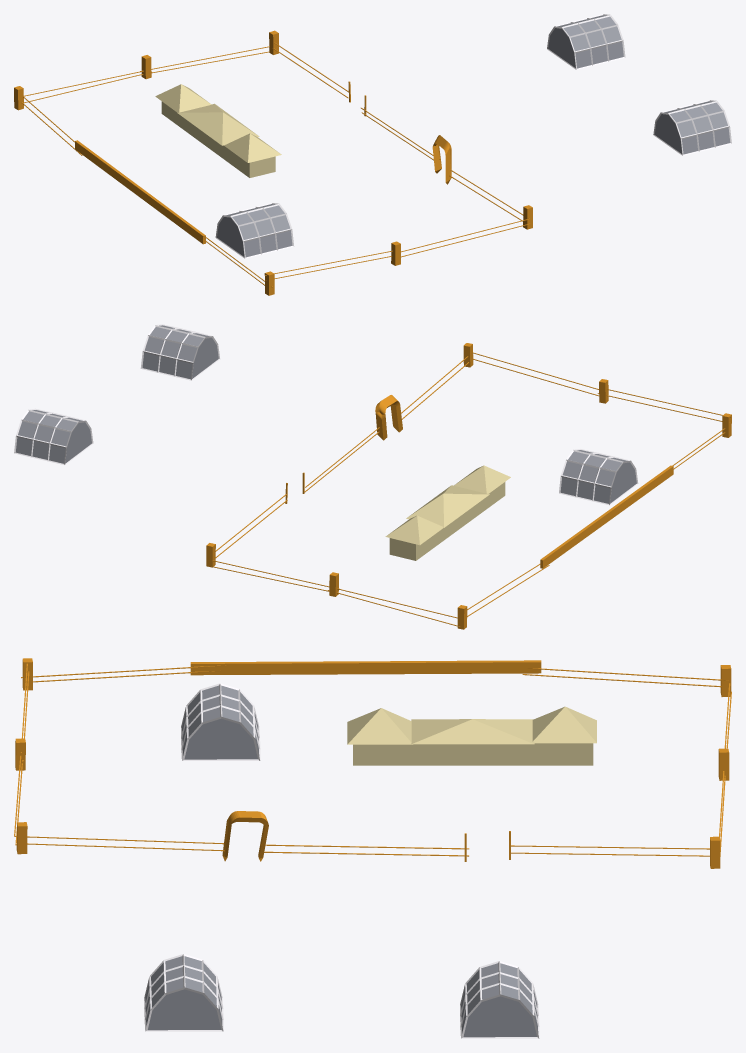
Rendered from Lahar_LTDA.glb.
3 views of the same model, one above another, from view 1: azimuth 30°, elevation 25°; view 2: azimuth 150°, elevation 25°; view 3: azimuth 270°, elevation 25° (orthographic). The views are drawn at different scales.
Visible parts, largest first — view 1: Object_3.002, Object_3.005, Object_3.001, Cube, Cube.001, Cube.026, Object_3.006, Object_3.003, Object_3.004, Cube.002, Cube.003, Circle; view 2: Object_3.001, Object_3.002, Object_3.005, Cube, Cube.001, Cube.026, Object_3.004, Object_3.003, Object_3.006, Cube.003, Cube.002, Circle; view 3: Cube, Cube.026, Object_3.001, Object_3.005, Object_3.002, Cube.001, Cube.003, Cube.002, Object_3.004, Object_3.006, Object_3.003, Circle.
Part boxes in pixels (x1,y1,x2,y2): Object_3.002: (654, 101, 730, 154); Object_3.005: (548, 15, 623, 68); Object_3.001: (217, 204, 292, 257); Cube: (161, 101, 275, 177); Cube.001: (177, 103, 259, 145); Cube.026: (75, 140, 205, 244); Object_3.006: (547, 14, 625, 69); Object_3.003: (215, 203, 294, 258); Object_3.004: (653, 100, 731, 155); Cube.002: (224, 133, 281, 162); Cube.003: (155, 84, 211, 112); Circle: (432, 135, 451, 184); Object_3.001: (560, 450, 636, 503); Object_3.002: (142, 325, 218, 379); Object_3.005: (15, 410, 91, 463); Cube: (389, 482, 505, 560); Cube.001: (406, 485, 489, 527); Cube.026: (540, 465, 673, 568); Object_3.004: (140, 324, 219, 380); Object_3.003: (559, 449, 638, 505); Object_3.006: (14, 408, 93, 465); Cube.003: (385, 515, 442, 545); Cube.002: (454, 465, 510, 493); Circle: (375, 395, 402, 440); Cube: (353, 743, 593, 765); Cube.026: (190, 660, 541, 675); Object_3.001: (182, 685, 259, 759); Object_3.005: (461, 963, 538, 1037); Object_3.002: (145, 956, 222, 1030); Cube.001: (411, 719, 534, 744); Cube.003: (532, 706, 596, 743); Cube.002: (347, 708, 412, 744); Object_3.004: (144, 954, 223, 1031); Object_3.006: (460, 961, 539, 1038); Object_3.003: (181, 683, 260, 760); Circle: (222, 811, 268, 861).
Size of what is drawn, in the model's own units: 85.68 by 8.41 by 74.77.
